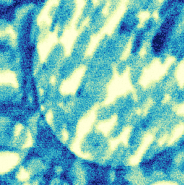hole_filled: (27, 5, 184, 166), (0, 103, 39, 177)
